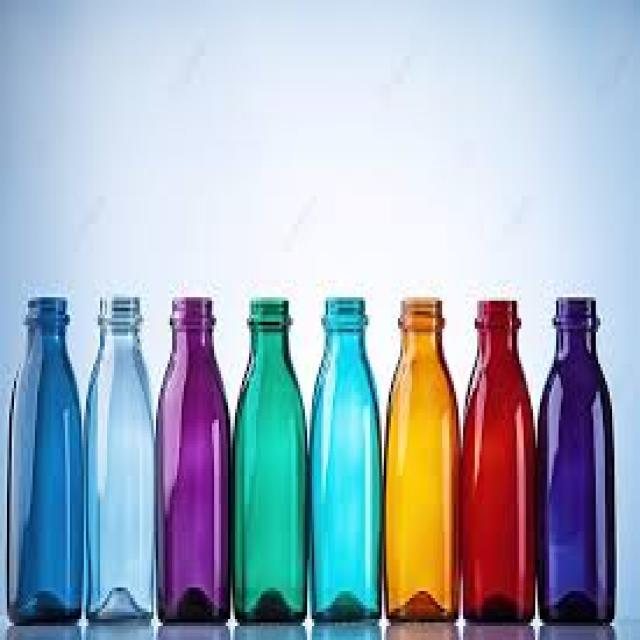Vidrio: (149, 273, 240, 635), (2, 280, 92, 635), (536, 273, 619, 629), (82, 266, 160, 640), (304, 269, 385, 628), (230, 273, 312, 624), (460, 273, 538, 633), (386, 280, 468, 622)
